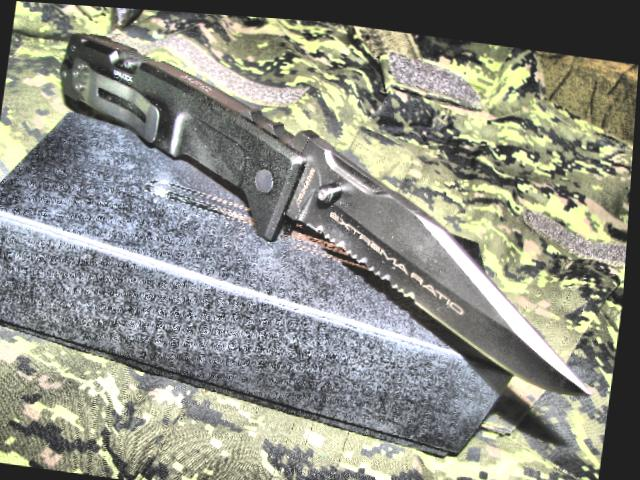knife: (251, 113, 633, 394)
